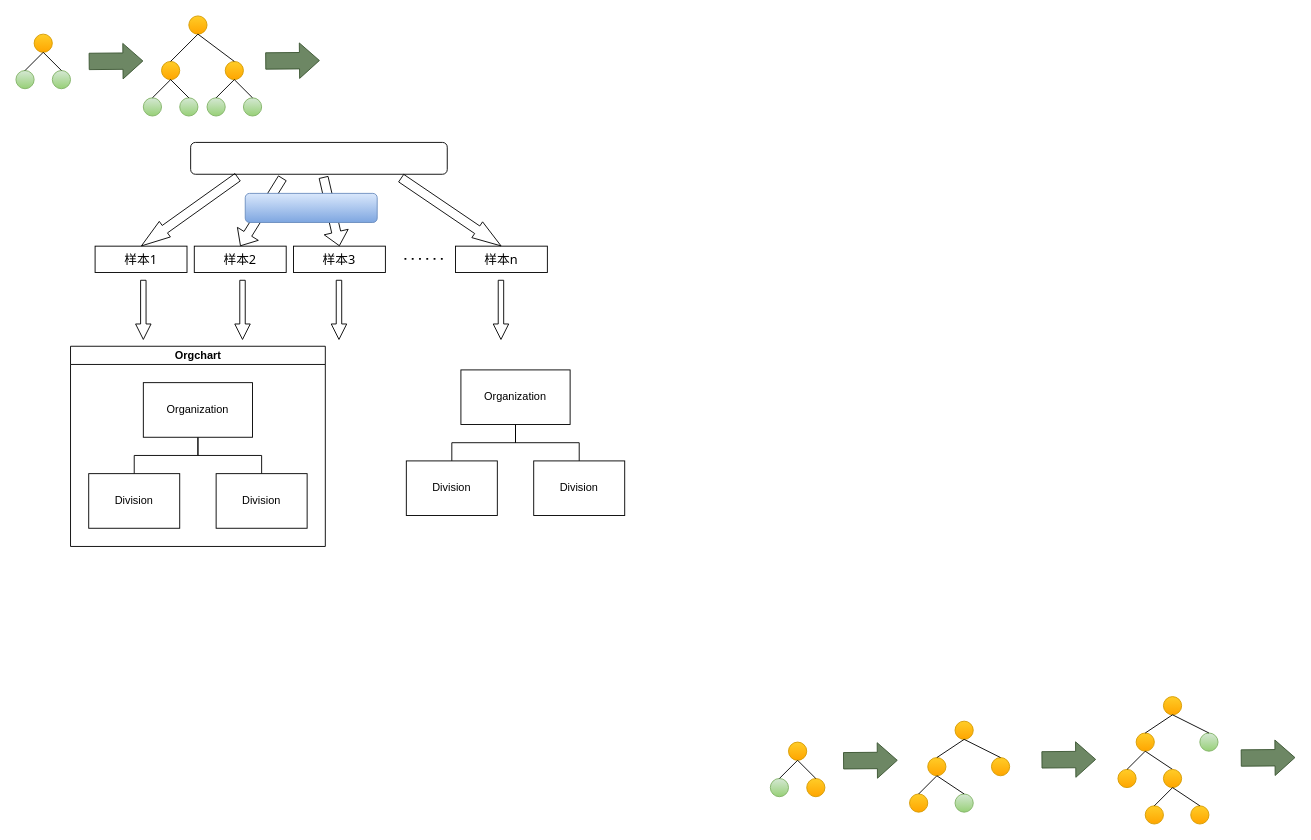
Some shapes in this 1311 by 840 pixel diagram are drawn without their labels. Each missing label, with the centre of its shape:
Bootstrap Resampling: the point at 310,207
原始训练样本: the point at 318,158
